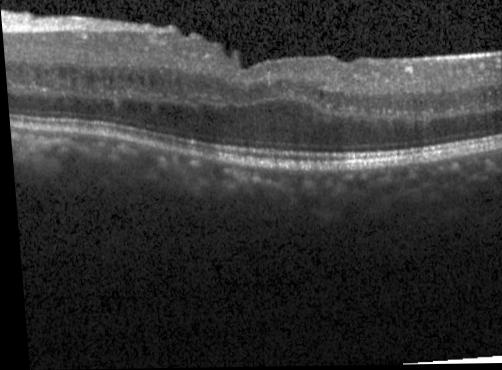intraretinal_cyst: (86, 74, 94, 85), (58, 68, 66, 78), (147, 76, 153, 89), (137, 77, 144, 87), (125, 75, 132, 85), (68, 67, 76, 75), (318, 92, 324, 100), (70, 78, 75, 86), (106, 78, 112, 84), (43, 69, 48, 75), (35, 73, 39, 79), (417, 101, 420, 106)
